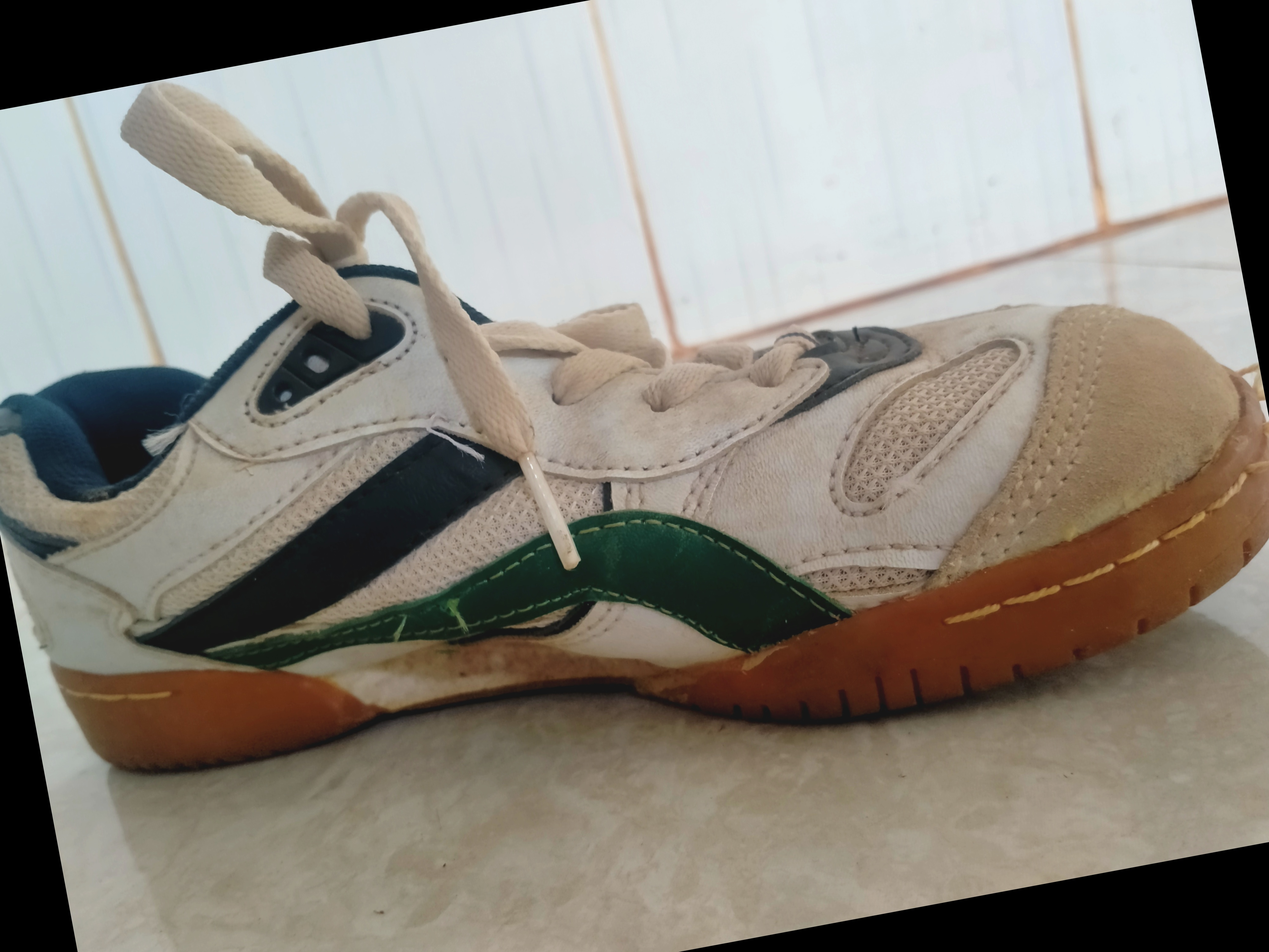broken: (387, 569, 497, 629), (1219, 400, 1269, 485)
